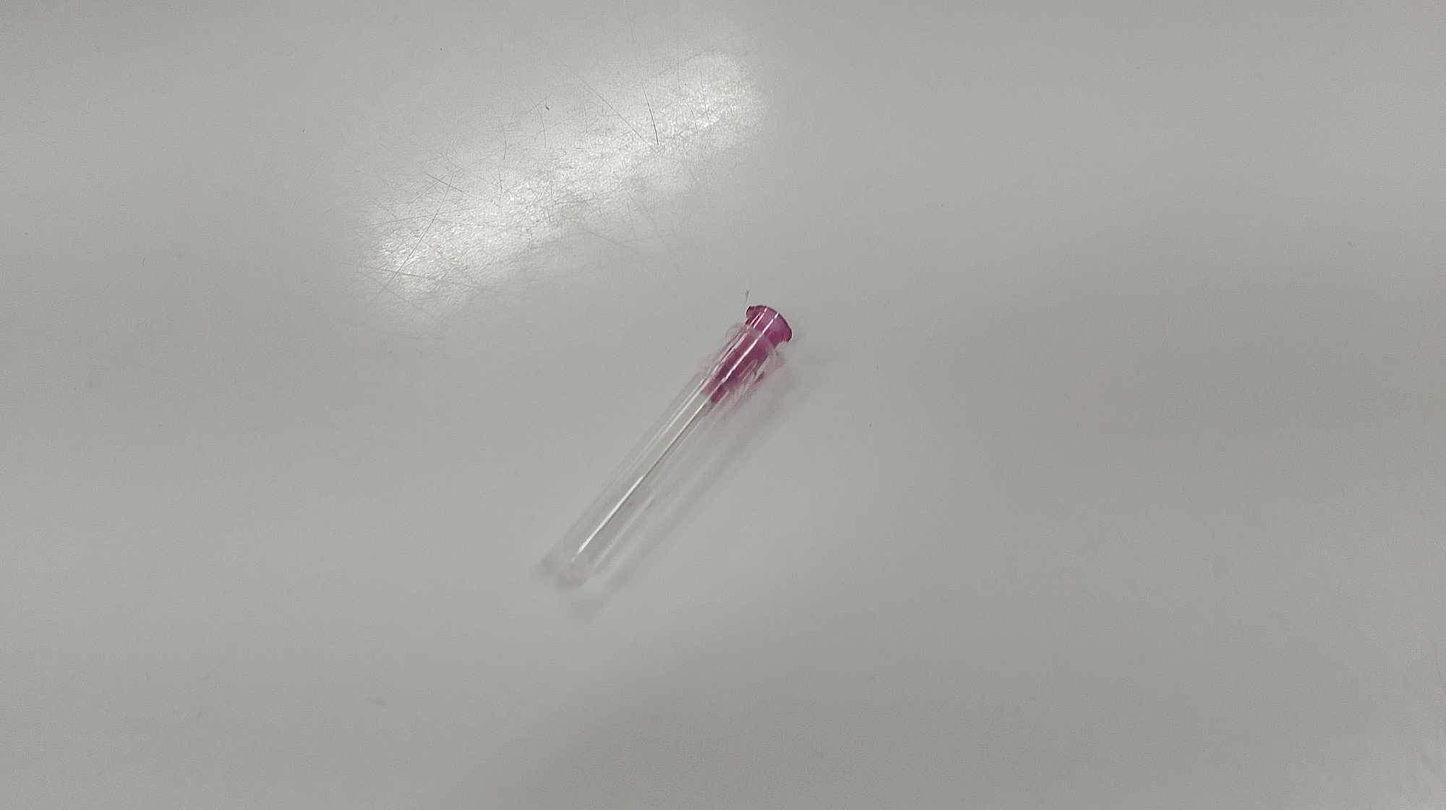Sharps: (536, 299, 794, 588)
